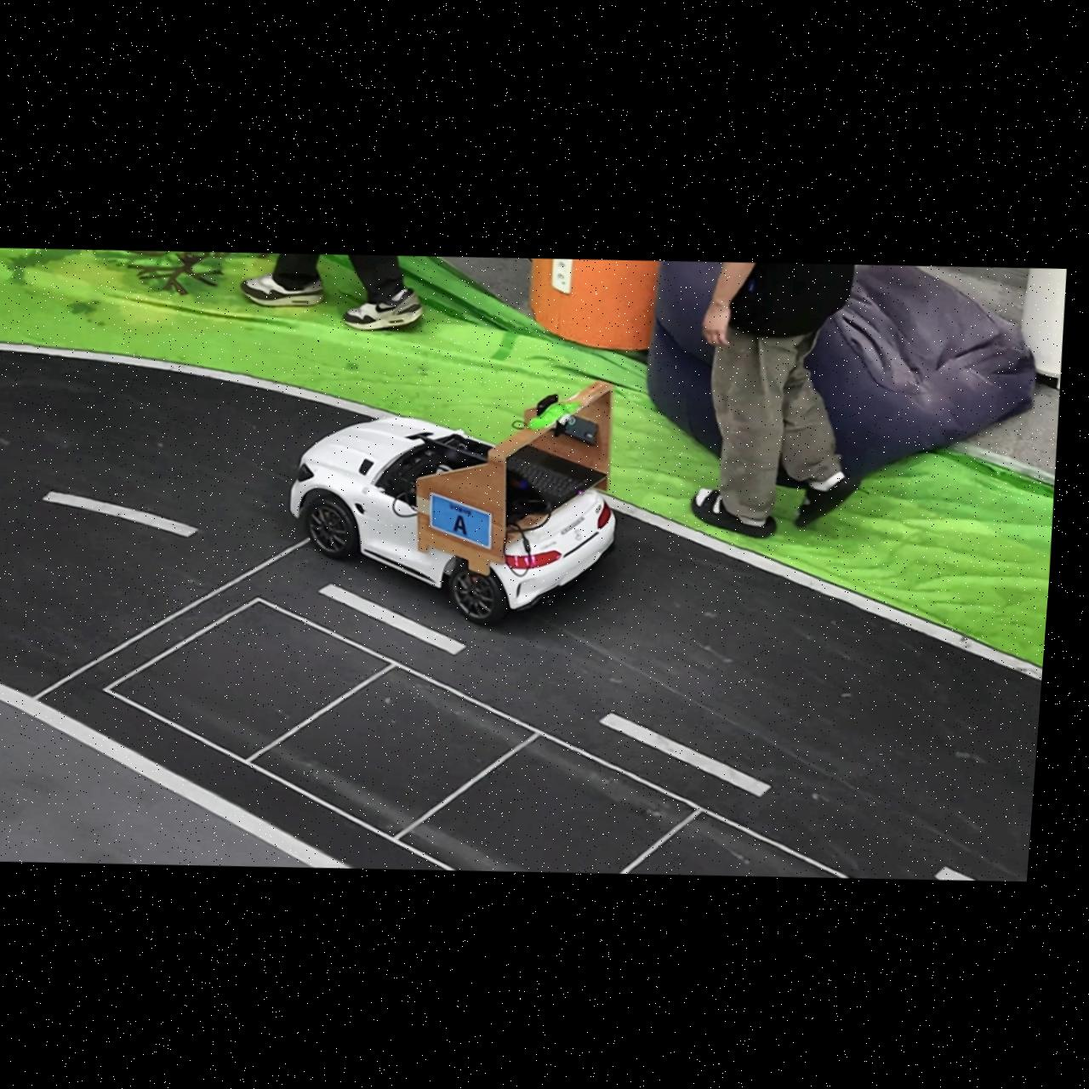broken_line: (599, 713, 771, 797), (318, 583, 467, 655), (42, 492, 199, 537), (933, 866, 975, 880)
